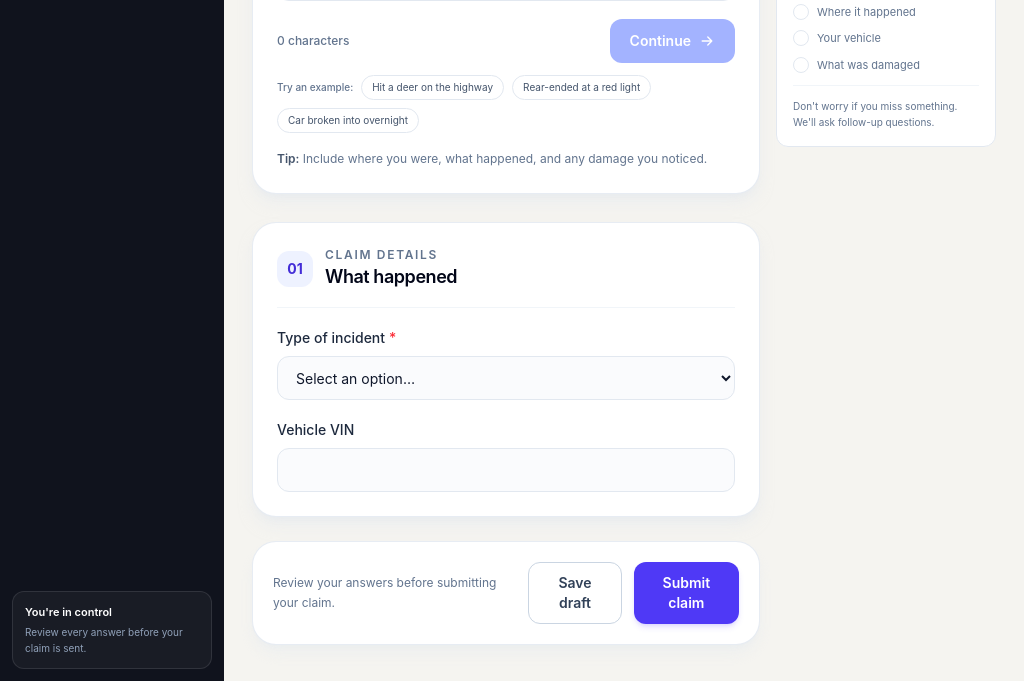
it: ClaimPage draft and submission flow › saves the current answers as a draft and shows the saved state
This screenshot has width=1024, height=681.
(page scrolled)
Select "Collision with a vehicle" in the dropdown labelled "Type of incident": (506, 378) [277, 356, 735, 400]
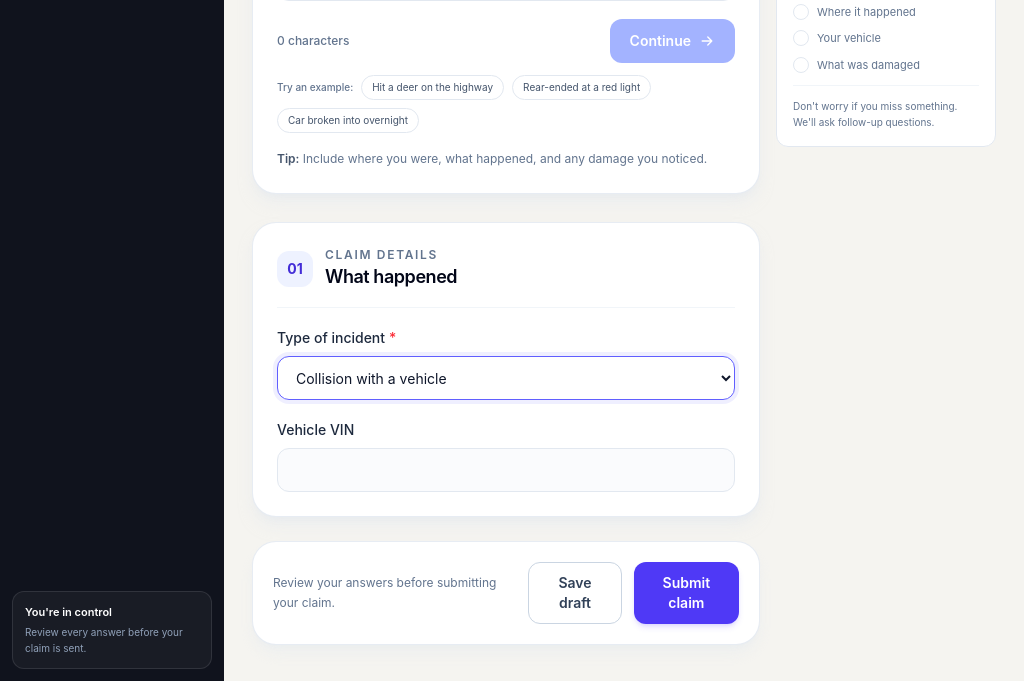
Click the button "Save draft": (575, 593) [528, 562, 622, 624]
(page scrolled)
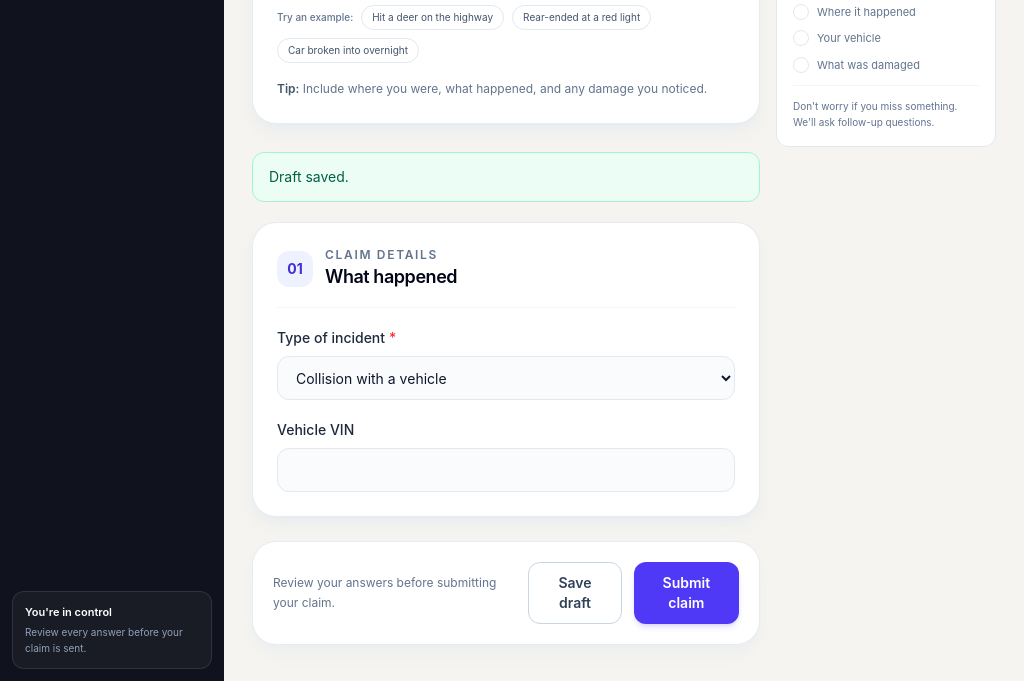
Expected: the text "Draft saved." is shown, [252, 152, 760, 202]
